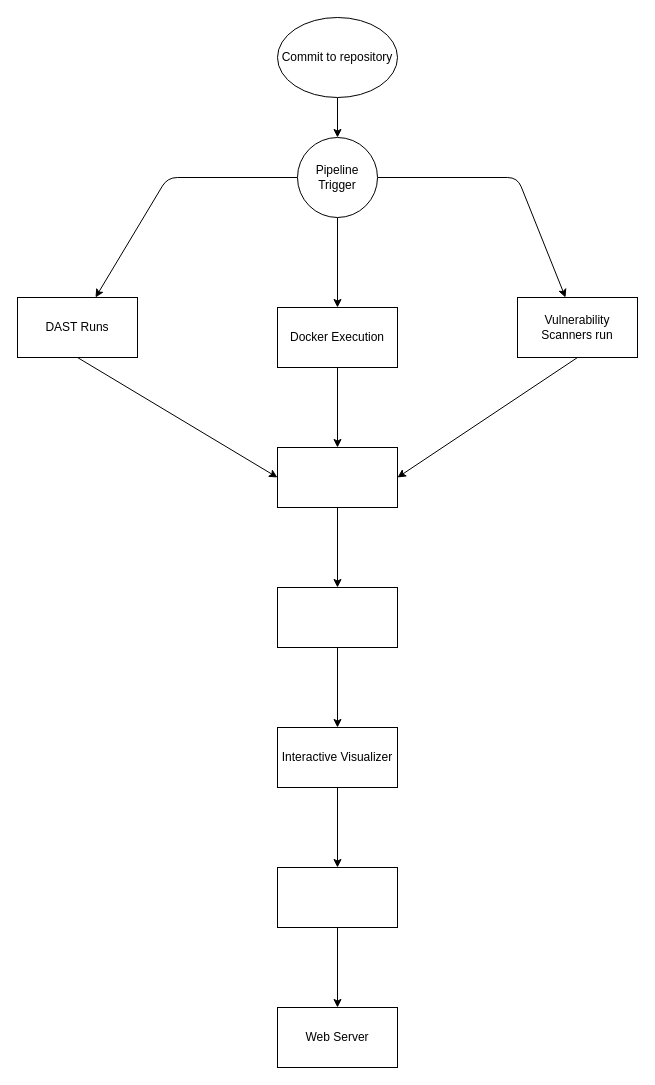
The diagram is 655 pixels wide and 1085 high, and some of its shapes have lost their labels. The shapes that lost their labels are listed below. From the top down, each one's box as (x1, y1, x2, y2) in pixels, then its label:
(276, 446, 398, 508): Input from scans get parsed
(276, 586, 398, 648): Graph Generation Engine / Model
(276, 866, 398, 928): HTML Conversion
